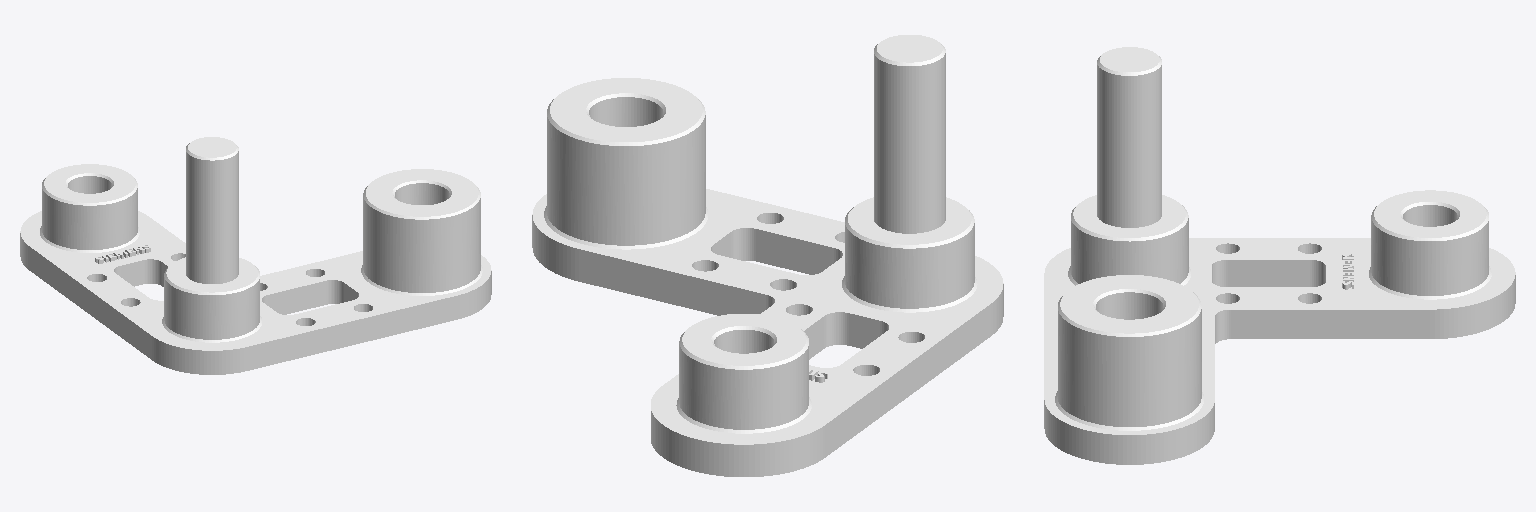
URDF robot description (gearbox_base):
<?xml version="1.0"?>
<robot name="gearbox_base">
    <link name="gearbox_base">
        <visual>
            <origin xyz="0 0 0 " rpy=" 0 0 0"/>
            <geometry>
                <mesh filename="gearbox_meshes/gearbox_base_precise.stl"/>
            </geometry>
            <material name="white">
                <color rgba="1.0 1.0 1.0 1.0"/>
            </material>
        </visual>
        <collision>
            <origin xyz="0 0 0" rpy="0 0 0"/>
            <geometry>
                <mesh filename="gearbox_meshes/gearbox_base_precise.stl"/>
            </geometry>
            <sdf resolution="256"/>
        </collision>
    </link>
</robot>

--- What the picture shows (computed from the rendered views, not written in the file) ---
3 views of the same robot in one strip: view 1: azimuth 30°, elevation 25°; view 2: azimuth 150°, elevation 25°; view 3: azimuth 270°, elevation 25° (orthographic).
Robot: gearbox_base — 1 links, 0 joints (none); root link gearbox_base; default pose: every joint at zero.
Links seen in each view (by area): view 1: gearbox_base; view 2: gearbox_base; view 3: gearbox_base.
Link boxes in pixels (x1,y1,x2,y2): gearbox_base: (20, 137, 491, 374); gearbox_base: (532, 35, 1003, 476); gearbox_base: (1044, 47, 1515, 464).
Bounding box of the posed robot: 0.2141 × 0.2156 × 0.123 m (x, y, z).
Meshes: 1 distinct files referenced, 1 mesh visuals loaded (1 binary STL).
